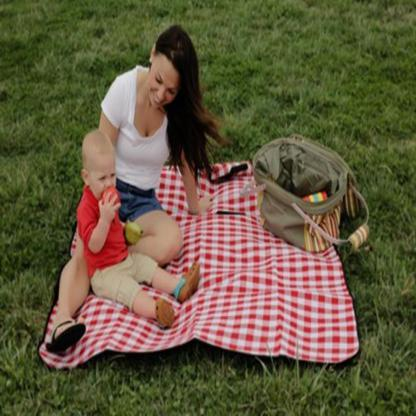face: (149, 61, 179, 111), (96, 158, 117, 206)
